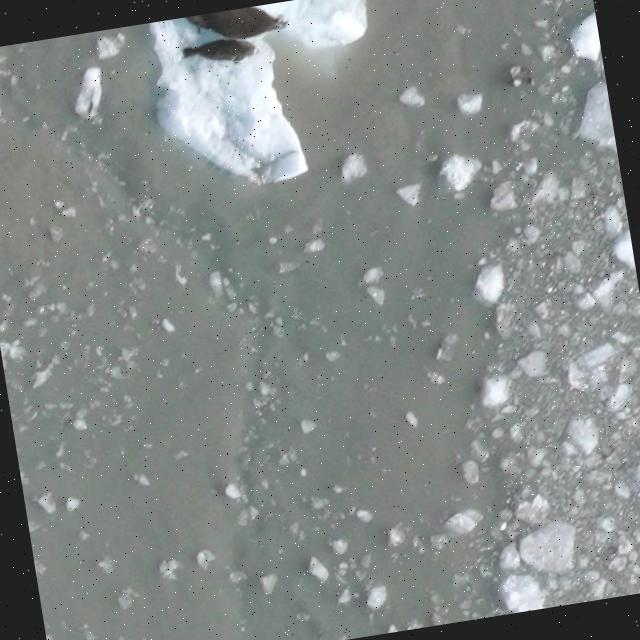seal: (184, 3, 291, 44), (181, 39, 260, 63)
